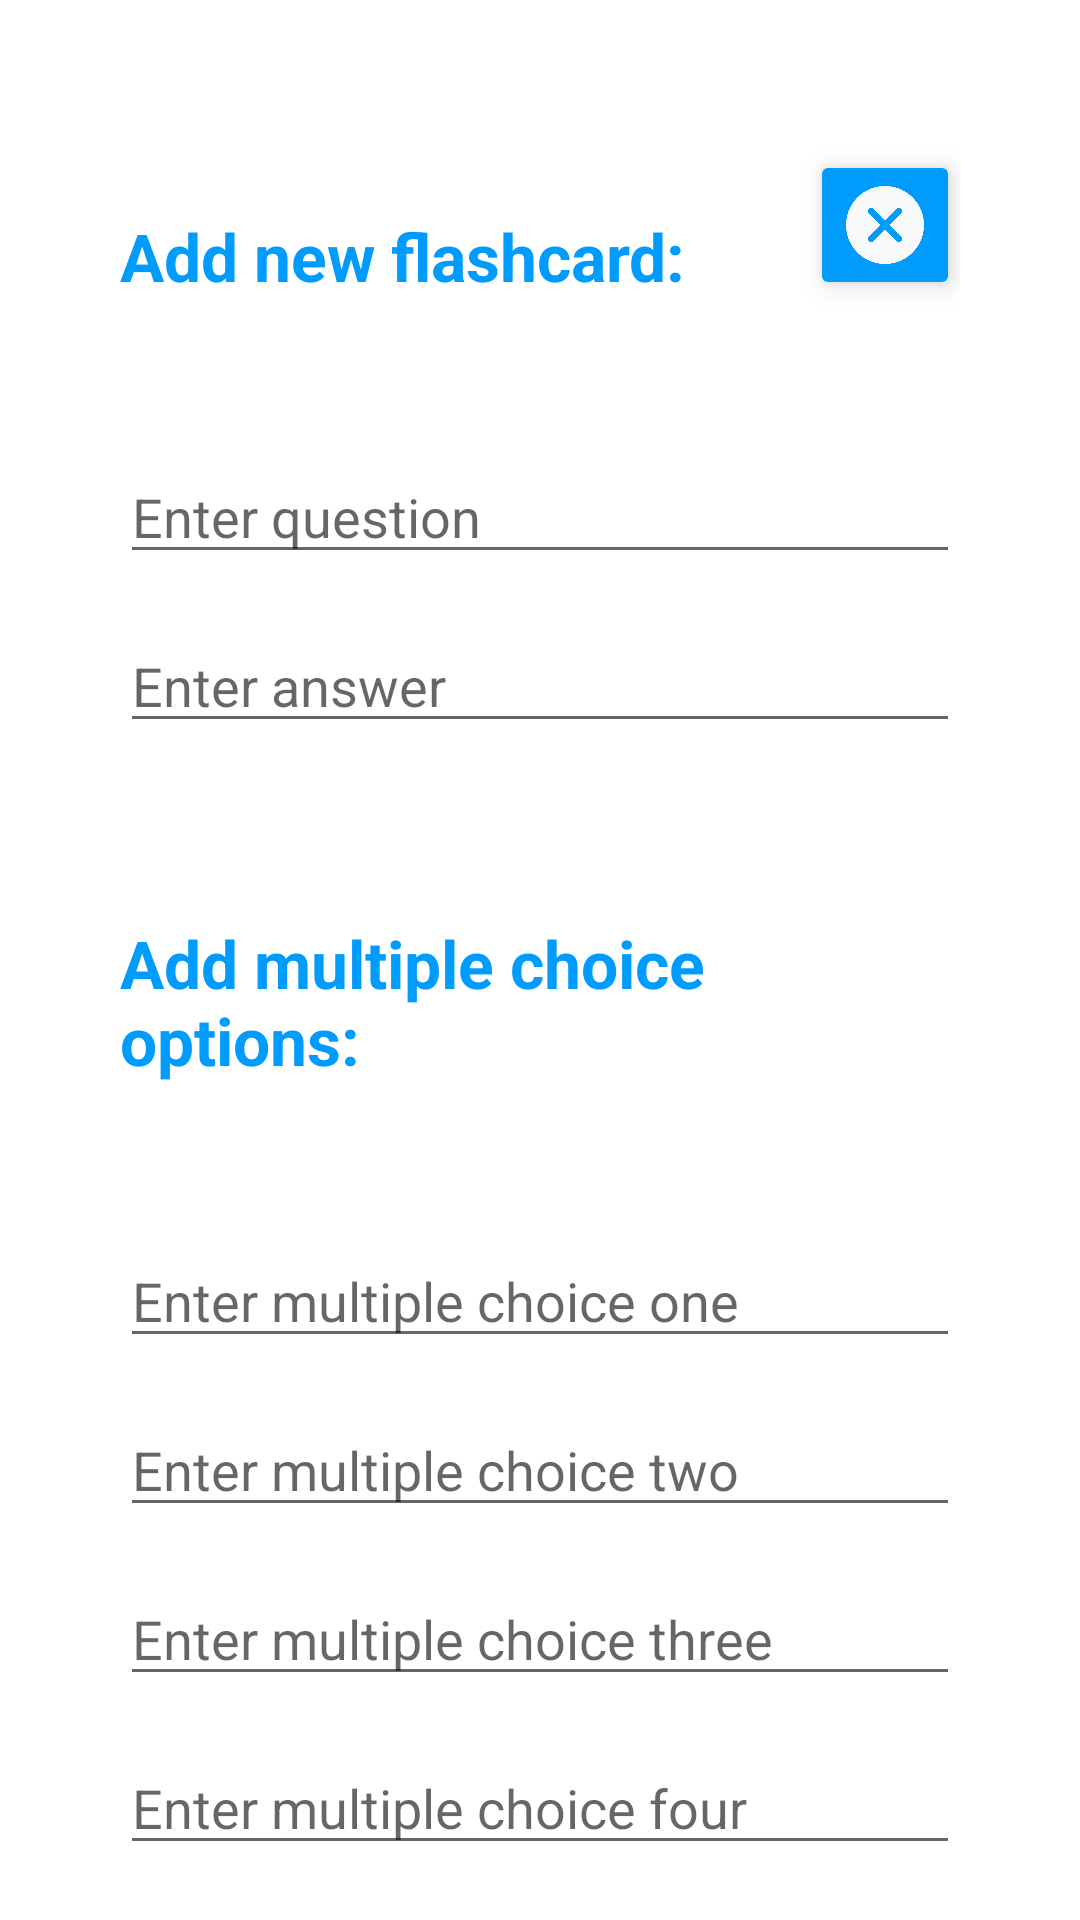

Icons on this 1080px x 1920px Android screen, each with the point to tap as (x,y):
cancel: (885,225)
